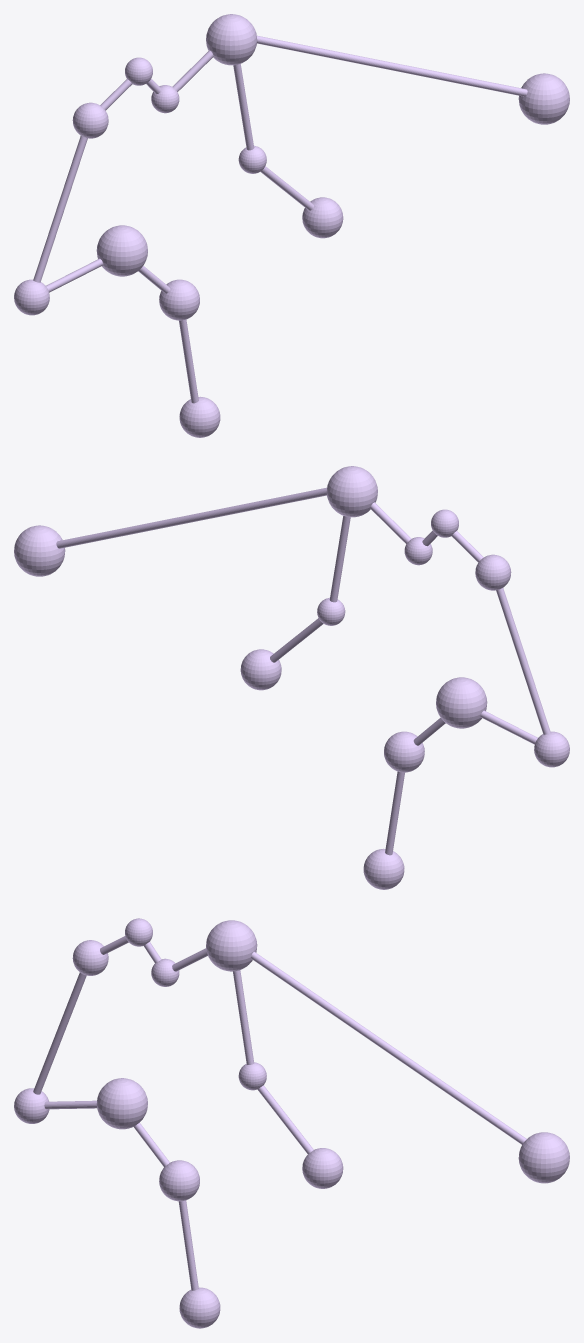
Rendered from Aquarius.glb.
3 renders of one model, top to bottom at view 1: azimuth 30°, elevation 25°; view 2: azimuth 150°, elevation 25°; view 3: azimuth 330°, elevation 25°, orthographic.
Visible parts, largest first — view 1: 球體.004; view 2: 球體.004; view 3: 球體.004.
Boxes of the visible parts, box(x1,y1,x2,y2) form: 球體.004: box(14, 14, 569, 437); 球體.004: box(14, 466, 569, 889); 球體.004: box(14, 918, 569, 1328).
Size of the model in its own units: 24.73 by 17.68 by 2.
